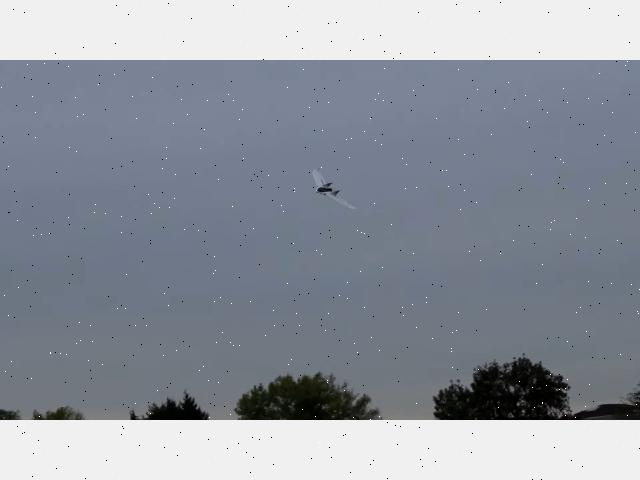Anti-Drone: (310, 169, 356, 209)
